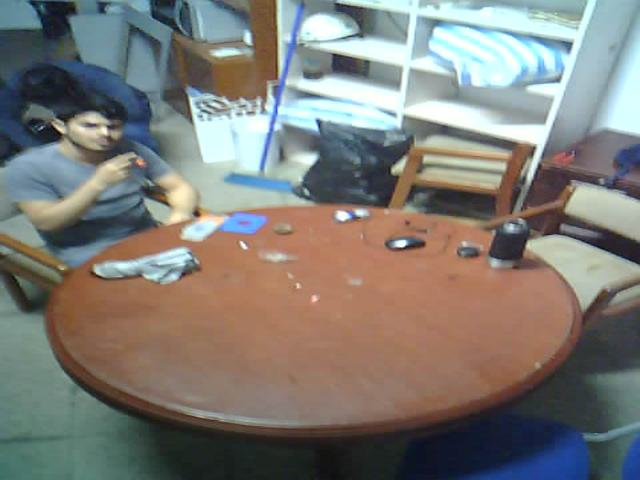person: (6, 108, 222, 289), (0, 51, 185, 141)
